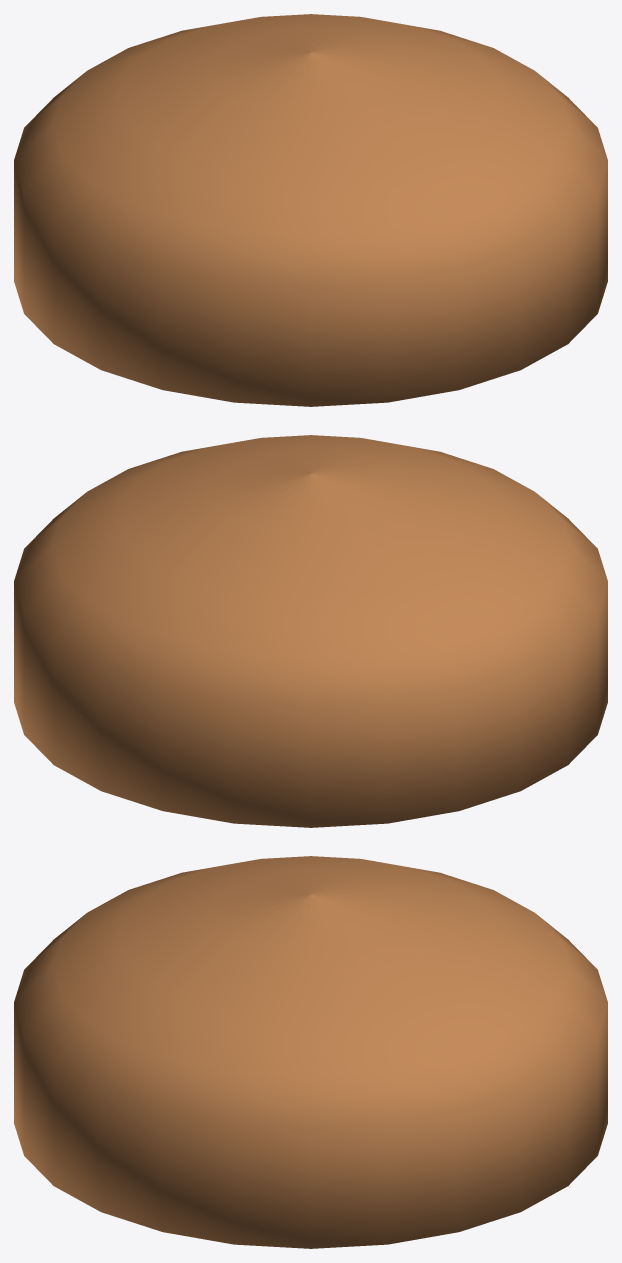
File: jacketed-round.glb
3 renders of one model, top to bottom at view 1: azimuth 30°, elevation 25°; view 2: azimuth 150°, elevation 25°; view 3: azimuth 270°, elevation 25°, orthographic.
Parts seen in each view (by area): view 1: jacket-ogive; view 2: jacket-ogive; view 3: jacket-ogive.
Boxes of the visible parts, x1=… form: jacket-ogive: x1=14, y1=14, x2=607, y2=406; jacket-ogive: x1=14, y1=435, x2=607, y2=827; jacket-ogive: x1=14, y1=856, x2=607, y2=1248.
Size of the model in its own units: 2 by 1 by 2.
